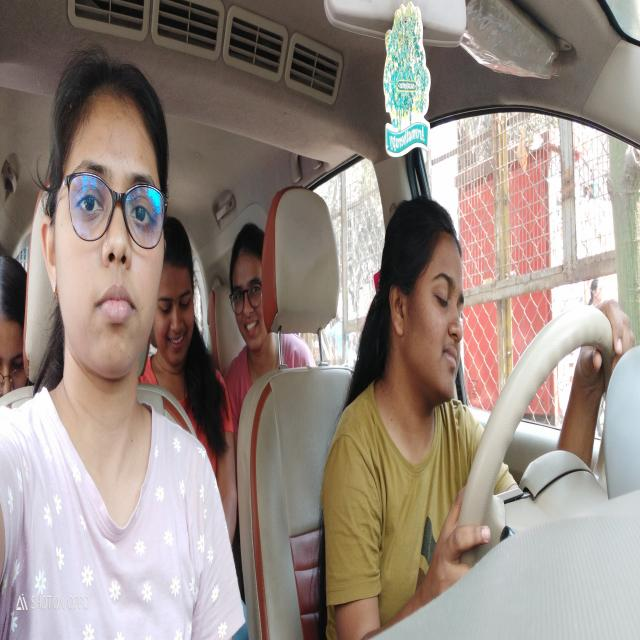drowsy: (372, 197, 492, 442)
person: (44, 36, 172, 392), (219, 198, 276, 380), (160, 210, 200, 386), (0, 245, 30, 398)
